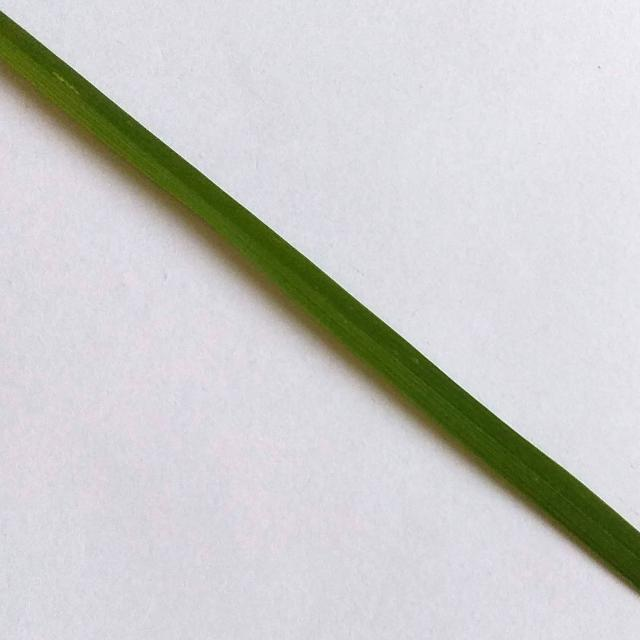Rice_Healthy: (0, 12, 640, 591)
